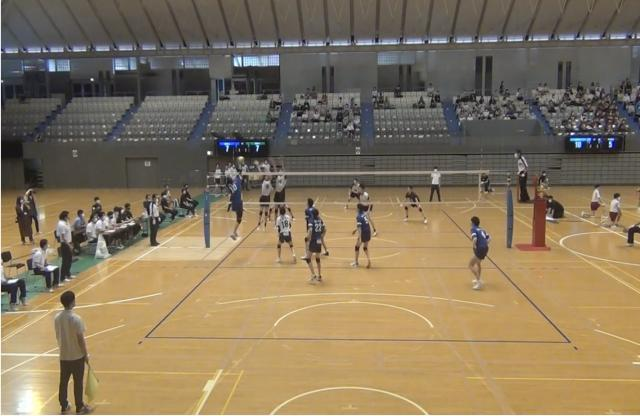spike: (224, 155, 249, 245)
